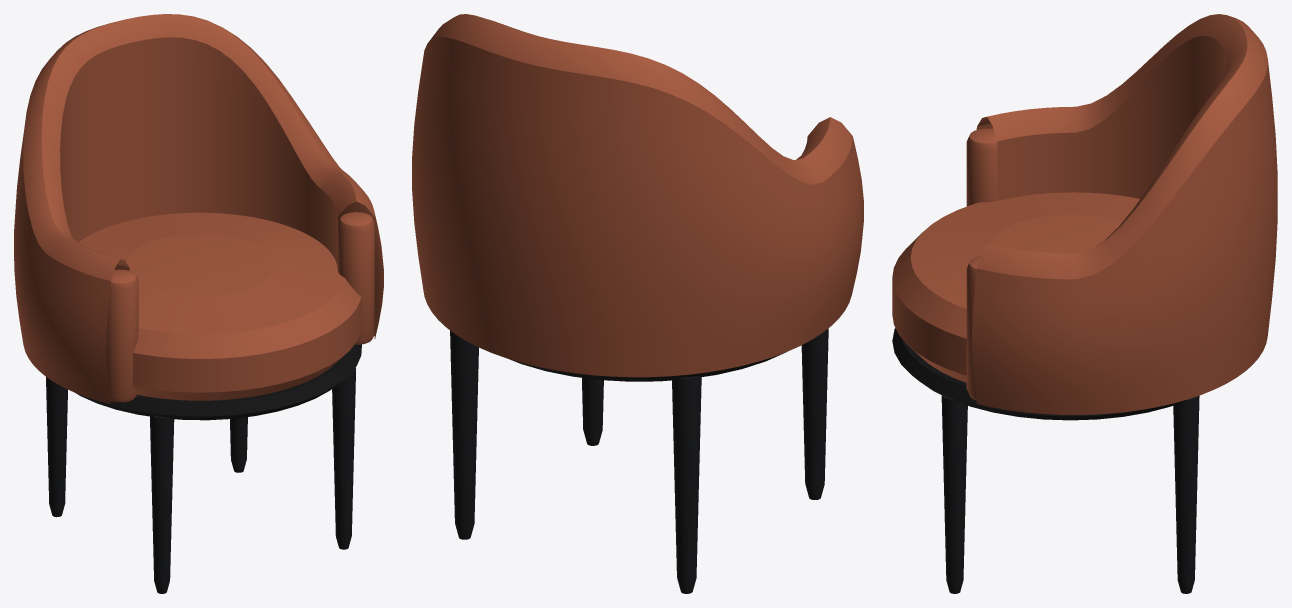
The model's file is tub_terra.glb.
3 views of the same model, side by side, from view 1: azimuth 30°, elevation 25°; view 2: azimuth 150°, elevation 25°; view 3: azimuth 270°, elevation 25° (orthographic). The views are drawn at different scales.
Parts seen in each view (by area): view 1: tub_terra; view 2: tub_terra; view 3: tub_terra.
Boxes of the visible parts, x1=… form: tub_terra: x1=14, y1=14, x2=383, y2=593; tub_terra: x1=412, y1=14, x2=863, y2=593; tub_terra: x1=892, y1=14, x2=1277, y2=593.
Size of the model in its own units: 0.5992 by 0.808 by 0.5663.
